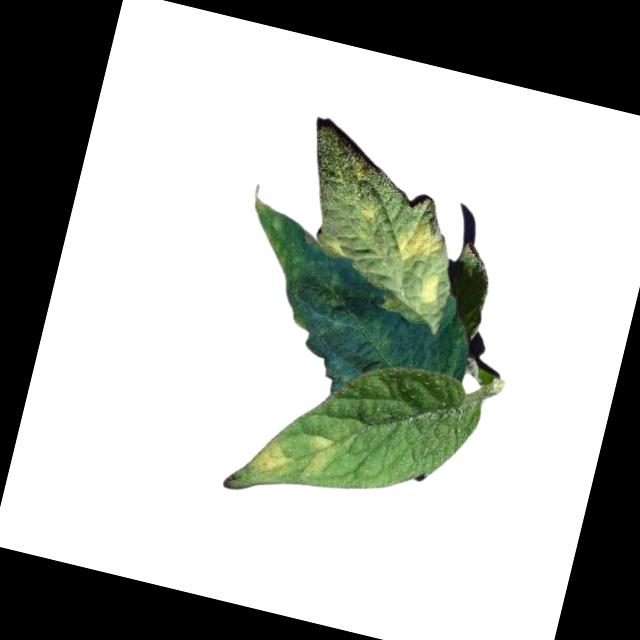Leaf_Mold: (241, 197, 322, 284), (391, 212, 453, 270), (243, 431, 300, 489), (300, 428, 344, 482), (414, 271, 446, 313), (353, 196, 387, 226)
